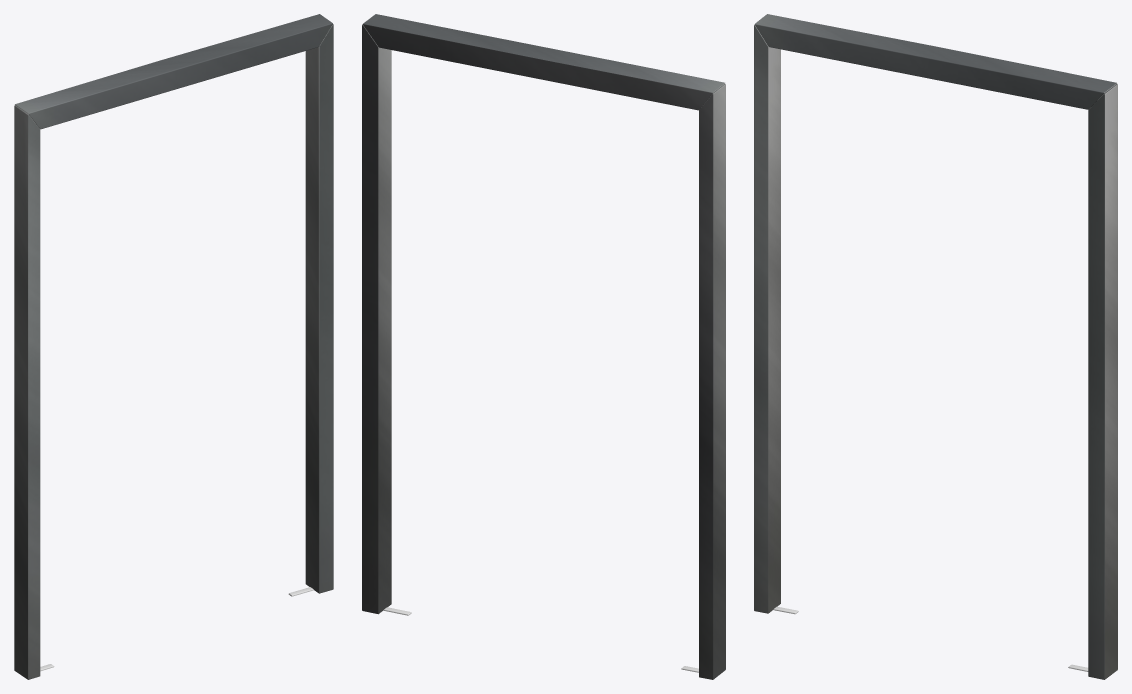
The model's file is menkuang.gltf.
The picture shows the model from 3 angles, left to right: view 1: azimuth 30°, elevation 25°; view 2: azimuth 150°, elevation 25°; view 3: azimuth 330°, elevation 25°; orthographic projection. The views are drawn at different scales.
Visible parts, largest first — view 1: Obj3d66-1469207-11-978-05 - Default; view 2: Obj3d66-1469207-11-978-05 - Default; view 3: Obj3d66-1469207-11-978-05 - Default.
Boxes of the visible parts, <box> form: Obj3d66-1469207-11-978-05 - Default: <box>14,14,333,679</box>; Obj3d66-1469207-11-978-05 - Default: <box>362,14,725,679</box>; Obj3d66-1469207-11-978-05 - Default: <box>754,14,1117,679</box>.
Bounding box in the file's own units: 160 × 268 × 25.19.
2 materials, 1 textured.
